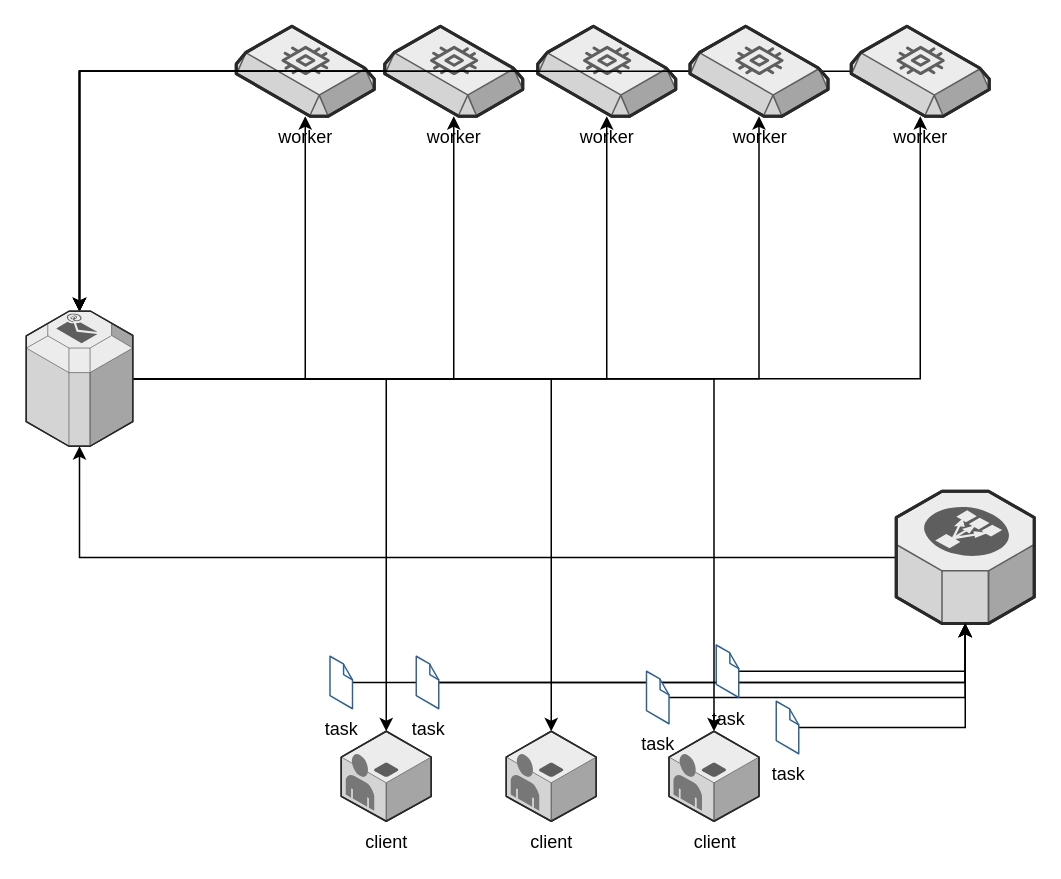
Some shapes in this 1061 by 879 pixel diagram are drawn without their labels. Here are the shapes that lost their labels. From the top down, the centre of each, then its label:
At point (79, 378): "task list".
At point (964, 557): "server".
